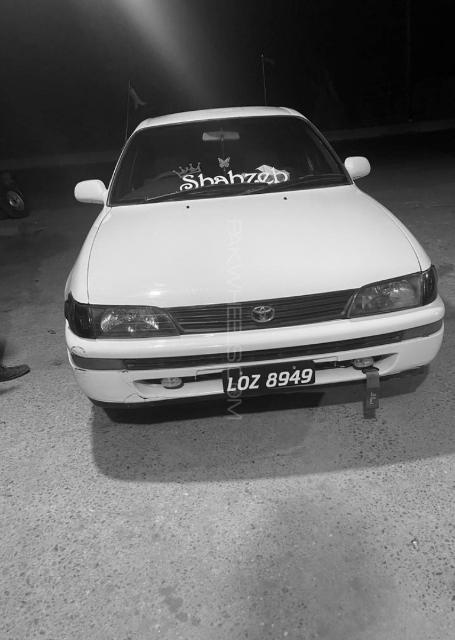Number: (225, 366, 314, 393)
